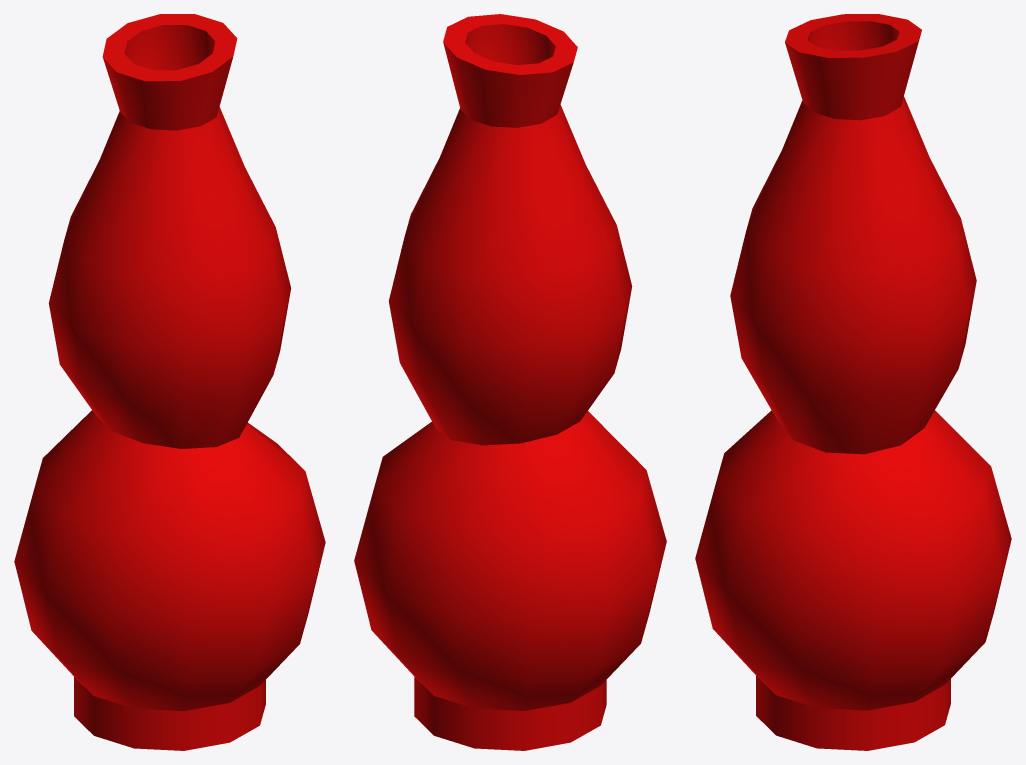
Rendered from Vase_4.fbx.
The picture shows the model from 3 angles, left to right: view 1: azimuth 30°, elevation 25°; view 2: azimuth 150°, elevation 25°; view 3: azimuth 270°, elevation 25°; orthographic projection.
Parts seen in each view (by area): view 1: Vase_4; view 2: Vase_4; view 3: Vase_4.
Part boxes in pixels (left/top/right/bottom): Vase_4: left=14, top=14, right=325, bottom=750; Vase_4: left=354, top=14, right=666, bottom=750; Vase_4: left=695, top=14, right=1011, bottom=750.
Size of the model in its own units: 16.34 by 38.78 by 16.34.
